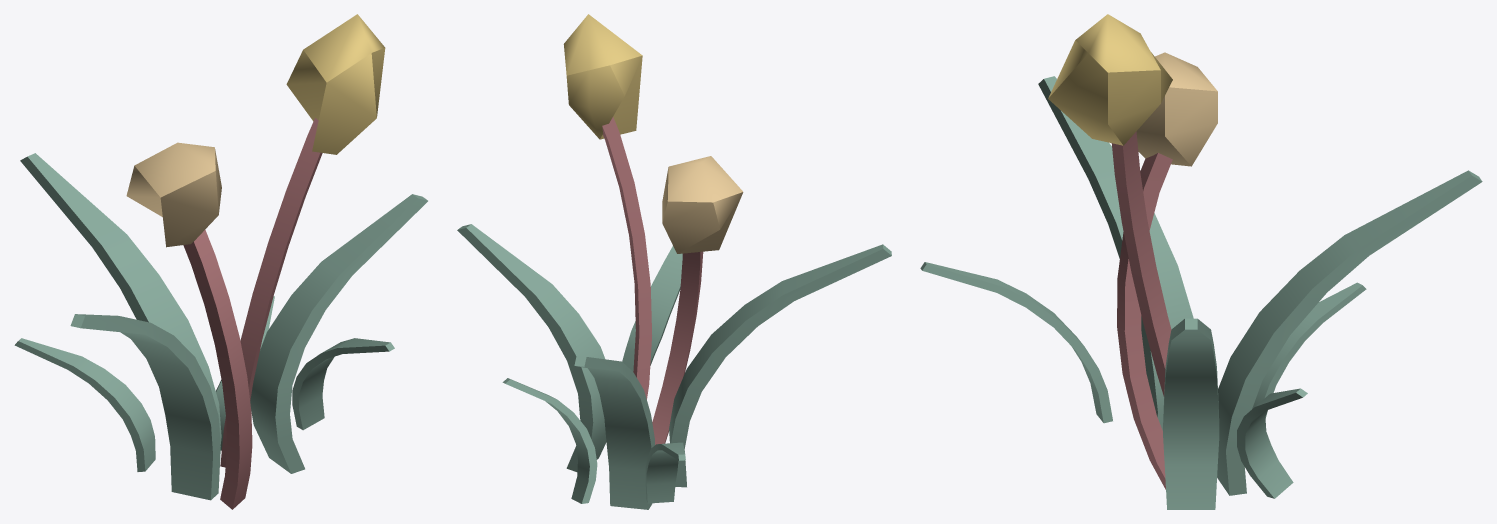
Rendered from SM_Flower1.fbx.
3 renders of one model, left to right at view 1: azimuth 30°, elevation 25°; view 2: azimuth 150°, elevation 25°; view 3: azimuth 270°, elevation 25°, orthographic. The views are drawn at different scales.
Parts seen in each view (by area): view 1: Flower1; view 2: Flower1; view 3: Flower1.
Part boxes in pixels (box(x1,y1,x2,y2)): Flower1: box(14, 14, 427, 509); Flower1: box(457, 14, 891, 509); Flower1: box(920, 14, 1482, 509).
Bounding box in the file's own units: 20.78 × 23.29 × 22.16.
